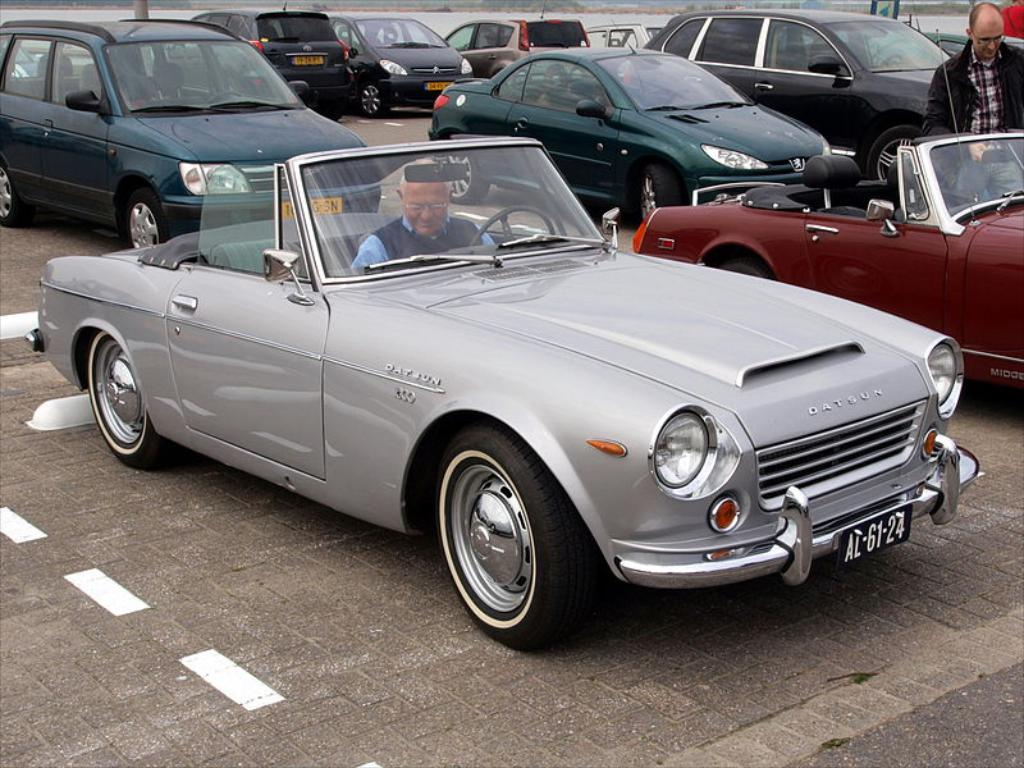Car: (0, 0, 1024, 653)
